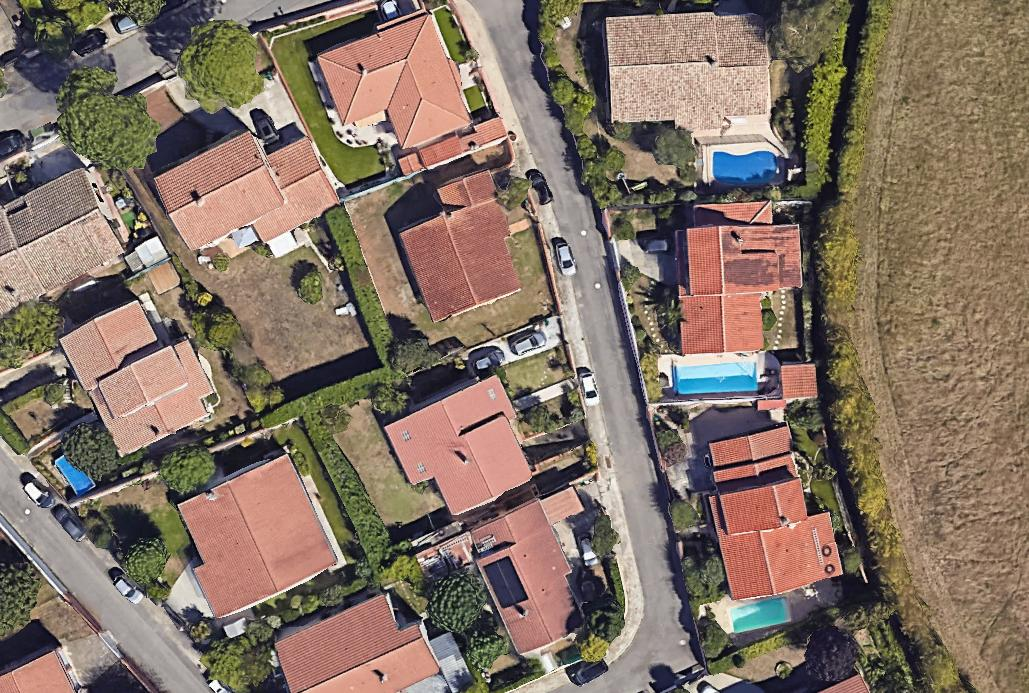maison: (306, 0, 513, 208), (149, 105, 342, 278), (160, 447, 344, 624), (461, 483, 629, 657), (57, 284, 223, 460), (380, 366, 548, 531), (697, 420, 843, 603), (604, 10, 770, 134), (675, 201, 804, 352), (0, 163, 129, 312), (270, 585, 439, 693), (0, 651, 73, 692), (821, 674, 868, 692)
